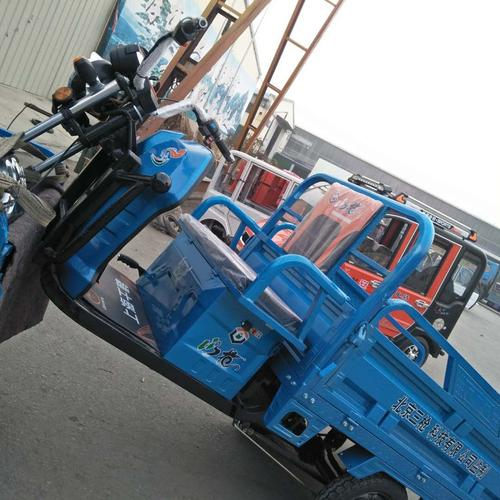driver: (21, 33, 500, 500)
